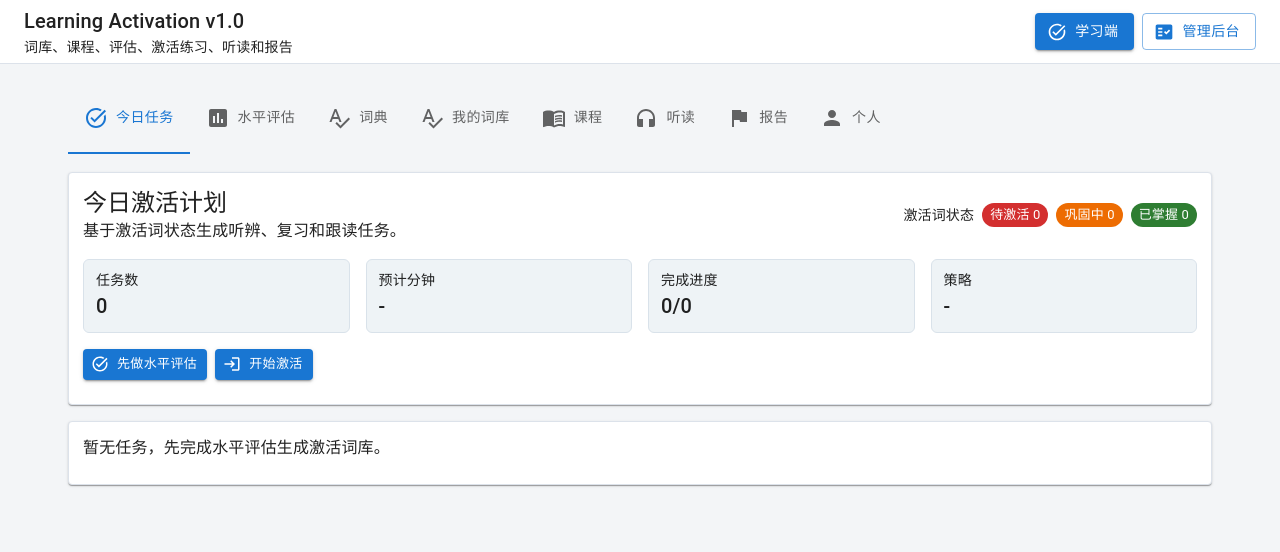
App v1.0 shell › routes to admin dashboard without polling admin APIs before login
This screenshot has width=1280, height=552.
Click the button "管理后台": (1199, 32) [1142,13,1256,50]
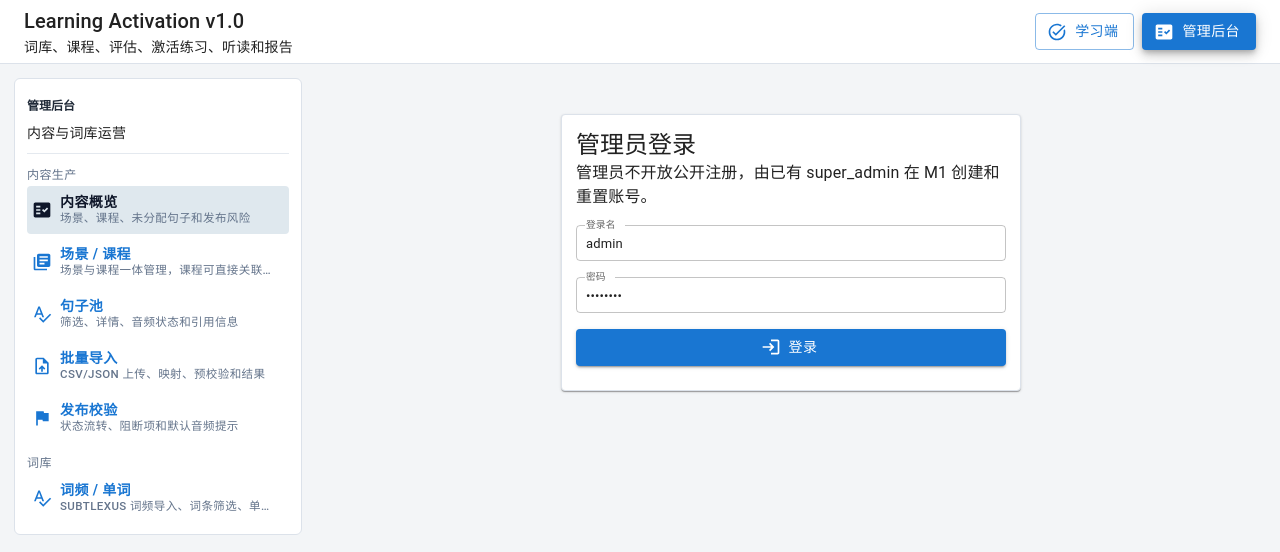
Expected: the heading "管理员登录" is shown, [576,131,696,159]
